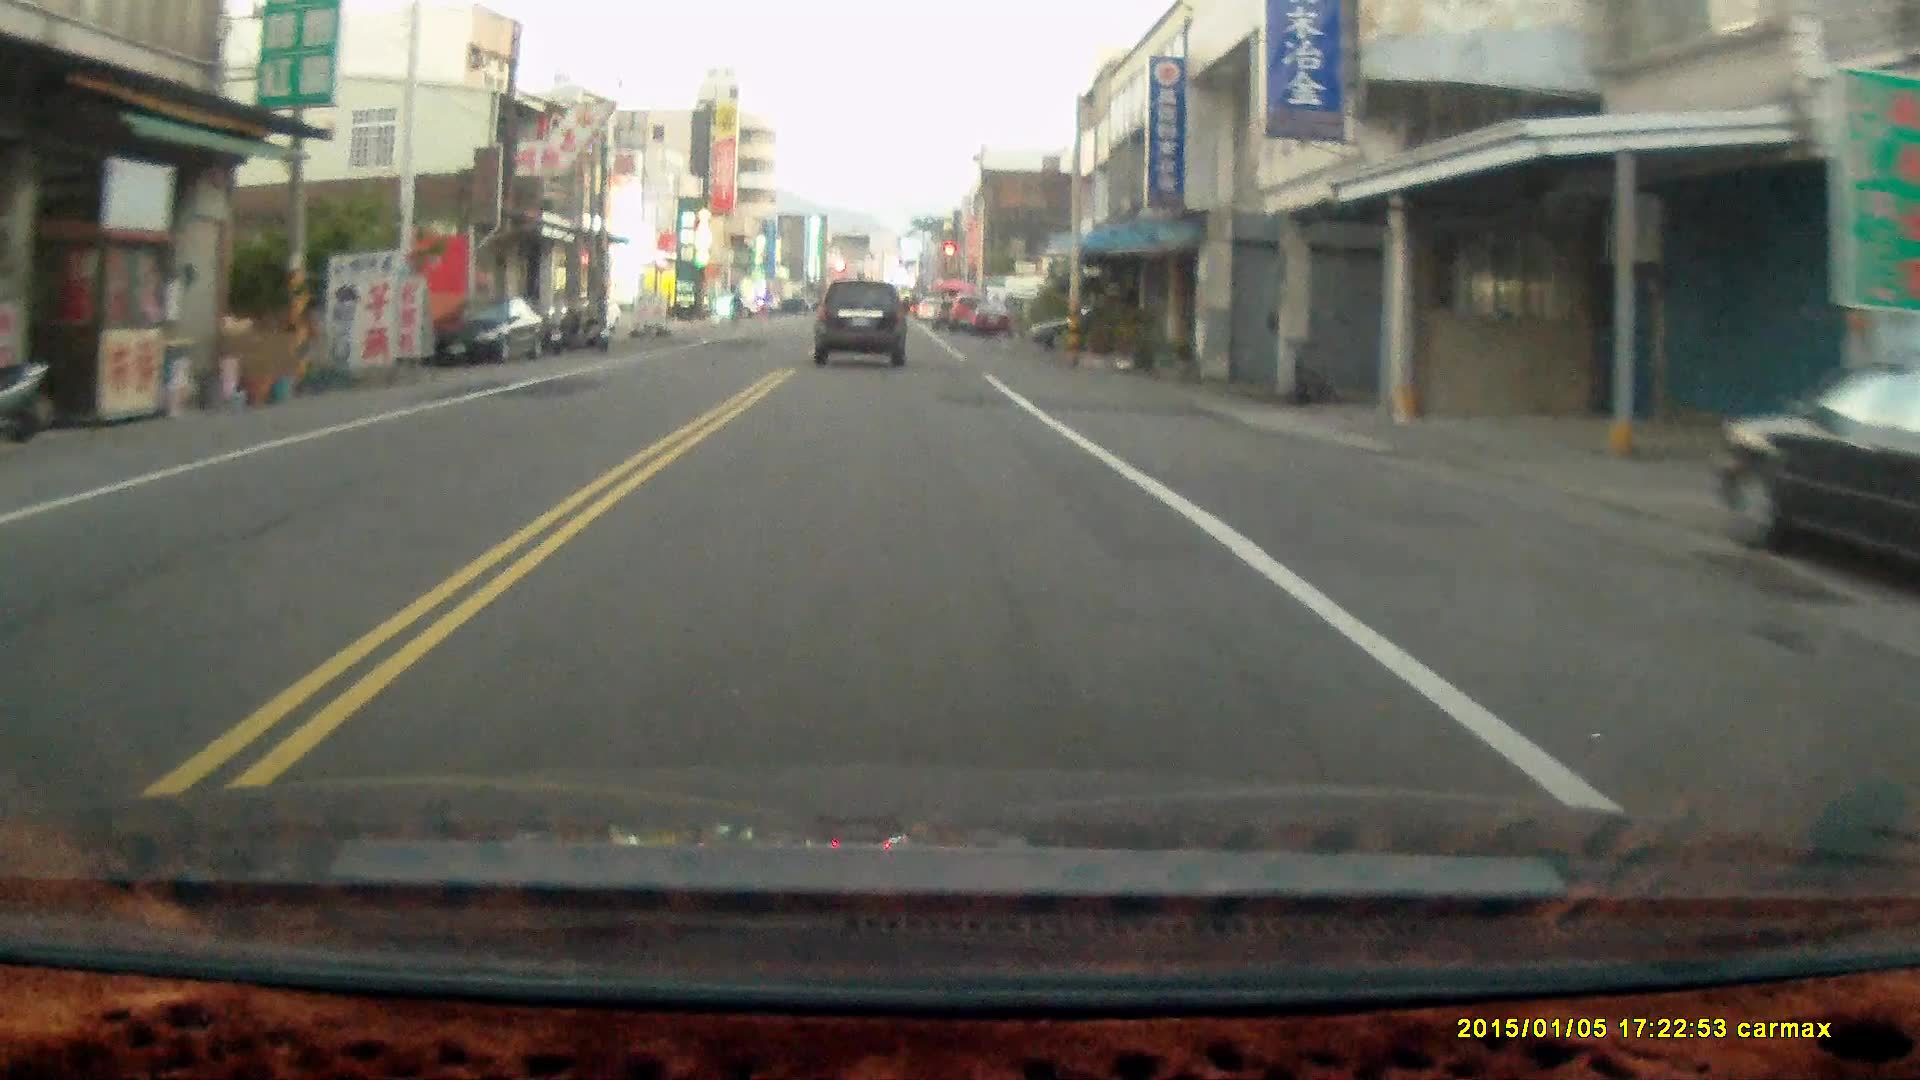vehicle: (1713, 351, 1920, 596), (429, 293, 549, 367), (815, 277, 910, 365)
